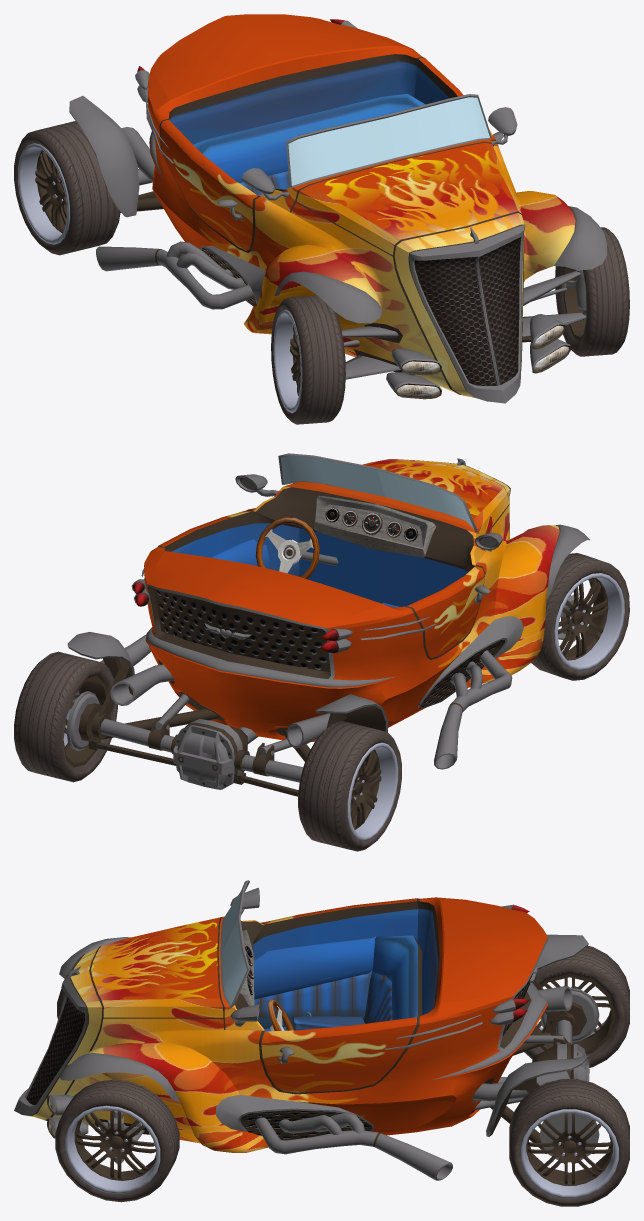
The model's file is autofiamme.fbx.
3 renders of one model, top to bottom at view 1: azimuth 30°, elevation 25°; view 2: azimuth 150°, elevation 25°; view 3: azimuth 270°, elevation 25°, orthographic. The views are drawn at different scales.
Parts seen in each view (by area): view 1: node_id112, node_id120, node_id116, node_id108, node_id131, node_id96, node_id118, node_id103, node_id51, node_id82, node_id32, node_id92 (+11 smaller); view 2: node_id112, node_id120, node_id110, node_id118, node_id108, node_id89, node_id96, node_id51, node_id99, node_id131, node_id114, node_id58 (+15 smaller); view 3: node_id112, node_id120, node_id108, node_id51, node_id85, node_id78, node_id118, node_id89, node_id82, node_id37, node_id32, node_id116 (+15 smaller).
Boxes of the visible parts, x1,y1,x2,y2 form: node_id112: (148, 14, 575, 397); node_id120: (169, 61, 449, 264); node_id116: (414, 237, 521, 385); node_id108: (145, 95, 607, 403); node_id131: (288, 97, 489, 185); node_id96: (20, 121, 120, 255); node_id118: (159, 54, 524, 401); node_id103: (280, 295, 345, 424); node_id51: (96, 127, 254, 309); node_id82: (571, 227, 629, 356); node_id32: (69, 96, 152, 217); node_id92: (18, 143, 69, 244); node_id112: (144, 459, 559, 741); node_id120: (171, 523, 494, 695); node_id110: (152, 588, 504, 706); node_id118: (147, 460, 510, 735); node_id108: (141, 486, 589, 708); node_id89: (14, 651, 111, 782); node_id96: (298, 721, 395, 851); node_id51: (100, 634, 512, 769); node_id99: (554, 573, 624, 670); node_id131: (280, 456, 473, 528); node_id114: (314, 495, 436, 557); node_id58: (173, 719, 258, 789); node_id112: (23, 897, 548, 1152); node_id120: (248, 908, 438, 1127); node_id108: (14, 937, 548, 1131); node_id51: (251, 985, 572, 1180); node_id85: (520, 1109, 618, 1198); node_id78: (65, 1105, 160, 1193); node_id118: (22, 898, 531, 1134); node_id89: (509, 1079, 629, 1206); node_id82: (55, 1079, 179, 1202); node_id37: (474, 1056, 599, 1162); node_id32: (523, 934, 599, 1044); node_id116: (26, 996, 85, 1104).
Bounding box in the file's own units: 0.512 × 0.2938 × 0.7707.
44 materials, 44 textured.
